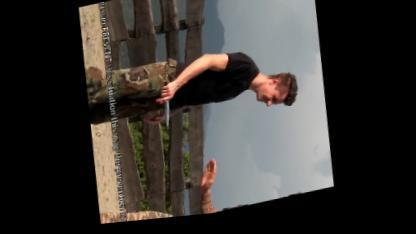knife: (156, 80, 178, 136)
